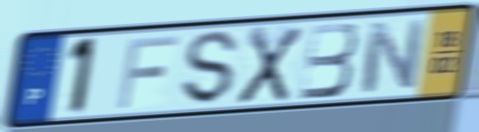1: (64, 34, 100, 118)
B: (297, 20, 360, 103)
F: (114, 33, 181, 111)
N: (358, 17, 427, 96)
S: (181, 29, 240, 107)
X: (234, 25, 305, 107)
